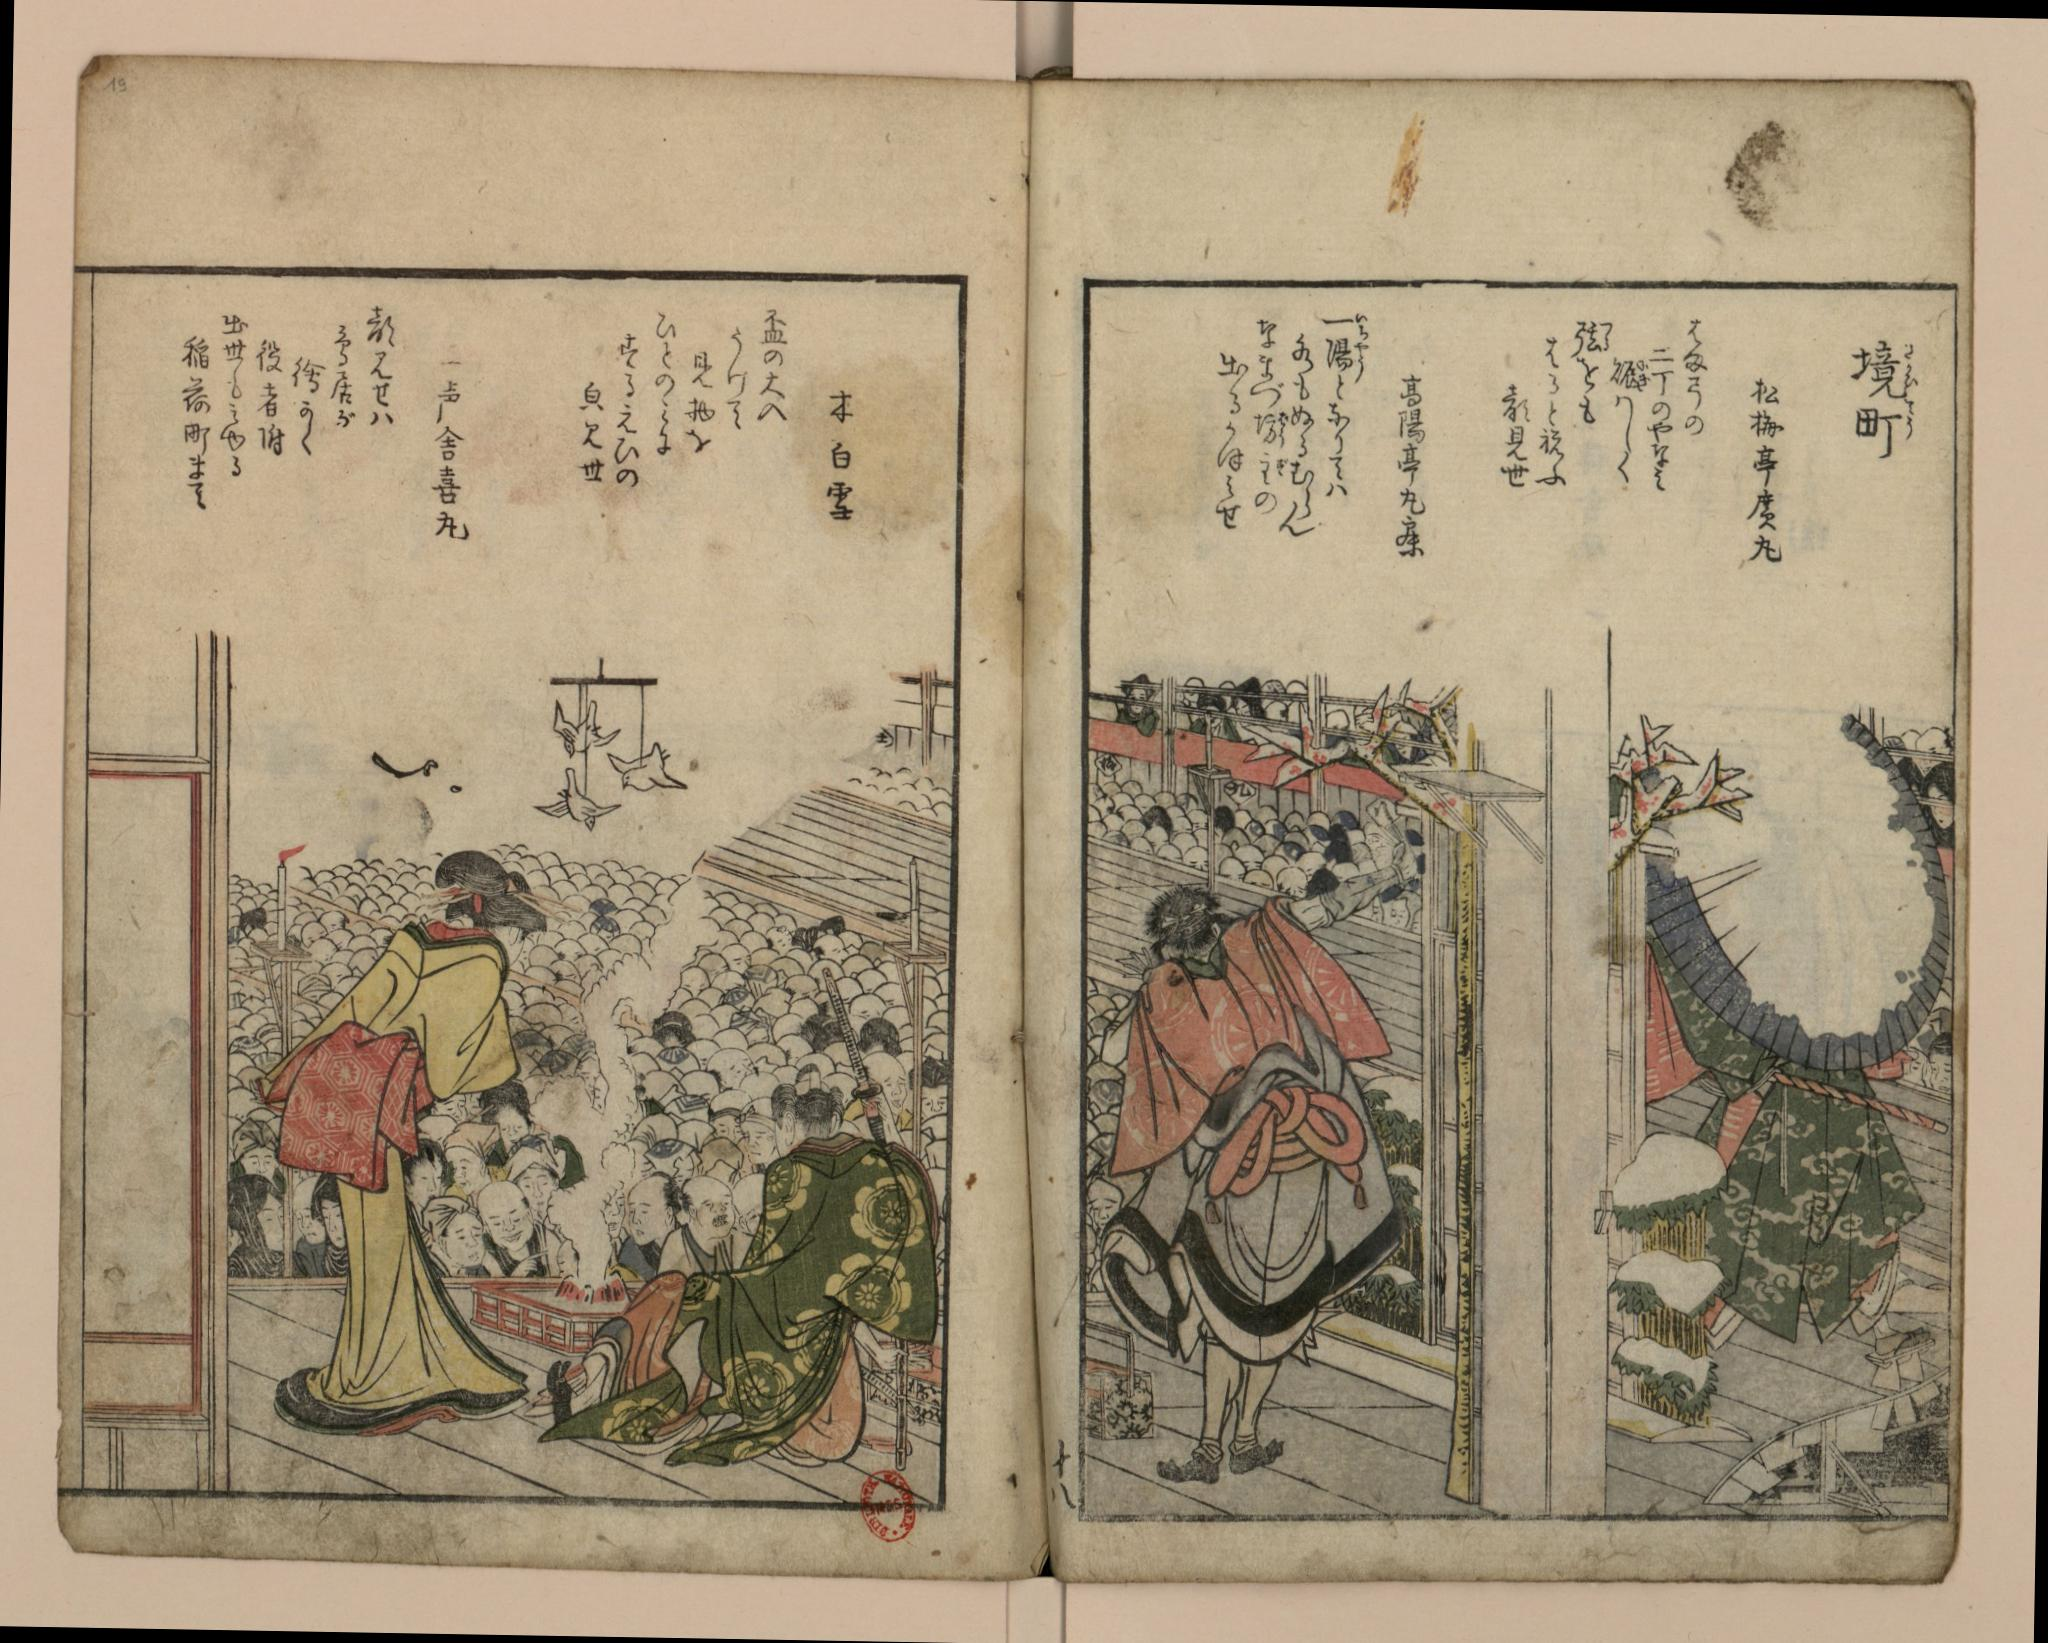MainZone-Character: (1847, 397, 1922, 463), (1847, 337, 1924, 399), (1321, 339, 1374, 381), (1609, 354, 1651, 392), (1567, 319, 1611, 354), (1317, 310, 1373, 337), (1254, 407, 1290, 446), (1255, 448, 1290, 486)
MainZone-Ruby: (1899, 337, 1919, 394), (1899, 401, 1921, 441), (1354, 339, 1373, 379), (1636, 357, 1652, 389), (1274, 451, 1290, 483), (1597, 319, 1614, 349), (1352, 312, 1371, 339), (1275, 411, 1289, 444)
